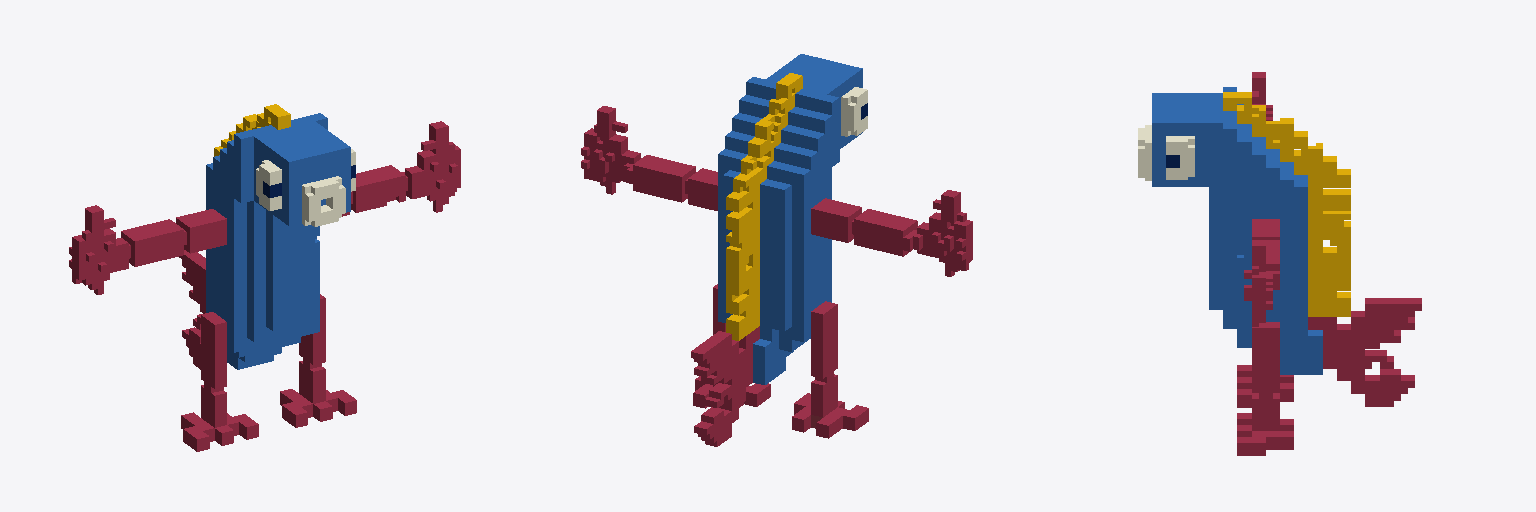
The picture shows the model from 3 angles: view 1: azimuth 30°, elevation 25°; view 2: azimuth 150°, elevation 25°; view 3: azimuth 270°, elevation 25°; orthographic projection.
Parts seen in each view (by area): view 1: Fish_Untitled.001; view 2: Fish_Untitled.001; view 3: Fish_Untitled.001.
Boxes of the visible parts, box(x1,y1,x2,y2) form: Fish_Untitled.001: box(69, 104, 460, 451); Fish_Untitled.001: box(581, 54, 972, 446); Fish_Untitled.001: box(1138, 72, 1421, 455).
Size of the model in its own units: 6.2 by 5 by 4.
1 materials, 1 textured.